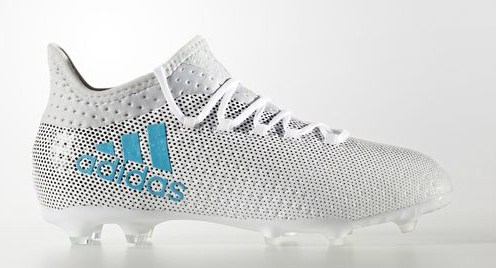football boots: (29, 34, 451, 247)
